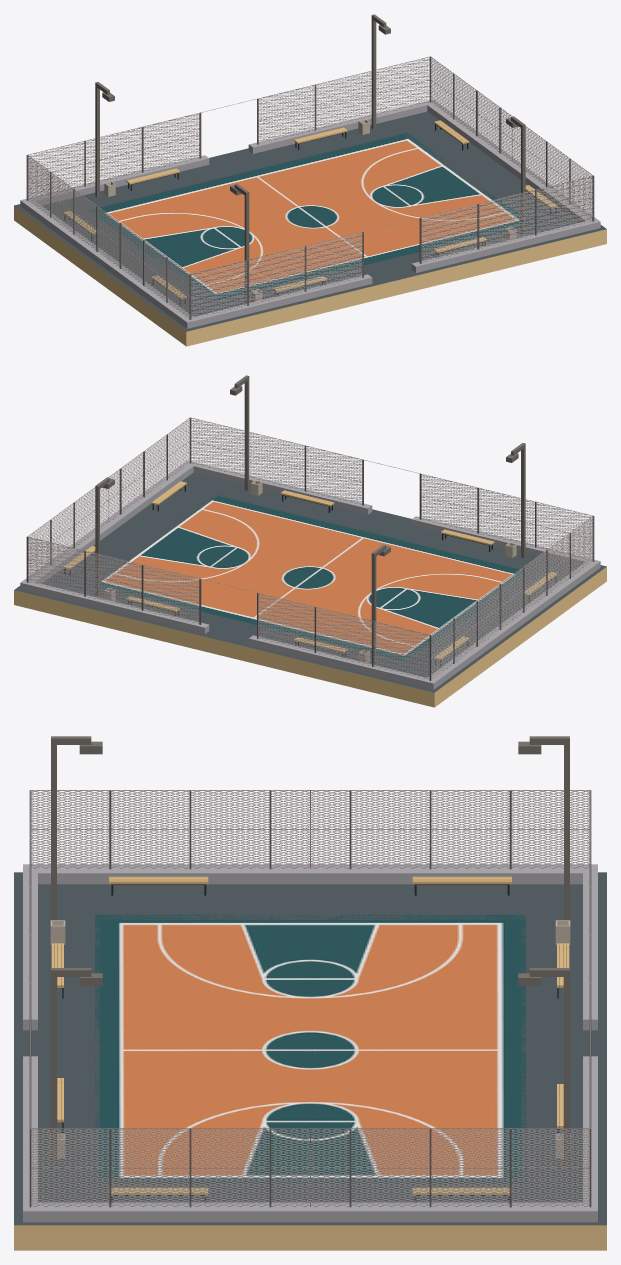
Rendered from Basketball_Court.fbx.
3 views of the same model, one above another, from view 1: azimuth 30°, elevation 25°; view 2: azimuth 150°, elevation 25°; view 3: azimuth 270°, elevation 25° (orthographic). The views are drawn at different scales.
Visible parts, largest first — view 1: Base, Court, Light Pillars, Benches, Mesh_Bars, Dust_Bin; view 2: Base, Court, Light Pillars, Benches, Mesh_Bars, Dust_Bin; view 3: Base, Court, Light Pillars, Benches, Mesh_Bars, Dust_Bin.
Part boxes in pixels (x1,y1,x2,y2): Base: (14, 57, 606, 346); Court: (88, 133, 532, 300); Light Pillars: (95, 14, 525, 303); Benches: (63, 120, 556, 305); Mesh_Bars: (27, 56, 593, 296); Dust_Bin: (104, 119, 516, 302); Base: (14, 418, 606, 707); Court: (100, 494, 522, 662); Light Pillars: (95, 375, 525, 664); Benches: (64, 481, 557, 666); Mesh_Bars: (27, 417, 593, 657); Dust_Bin: (104, 480, 516, 663); Base: (14, 790, 606, 1250); Court: (95, 914, 525, 1182); Light Pillars: (51, 736, 569, 1165); Benches: (51, 876, 569, 1202); Mesh_Bars: (30, 790, 590, 1168); Dust_Bin: (50, 920, 570, 1158).
Bounding box in the file's own units: 579 × 169 × 411.
